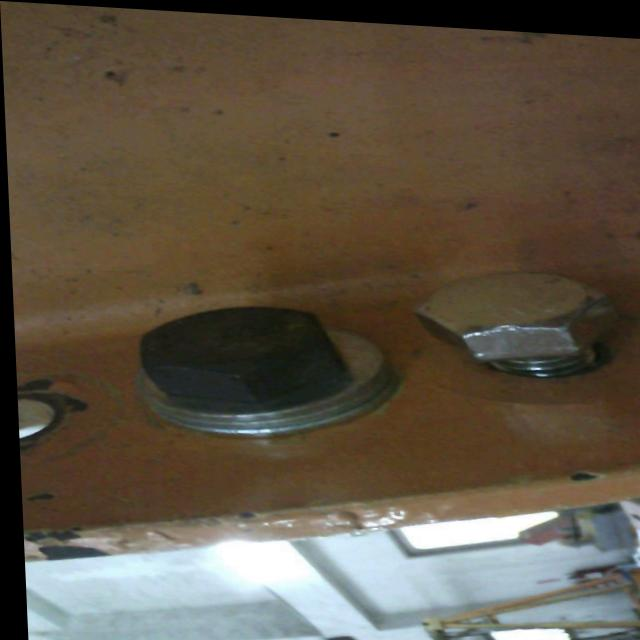Loose bolt: (412, 259, 623, 376)
Missing bolt: (15, 393, 60, 442)
Rusty bolt: (135, 298, 392, 442)
